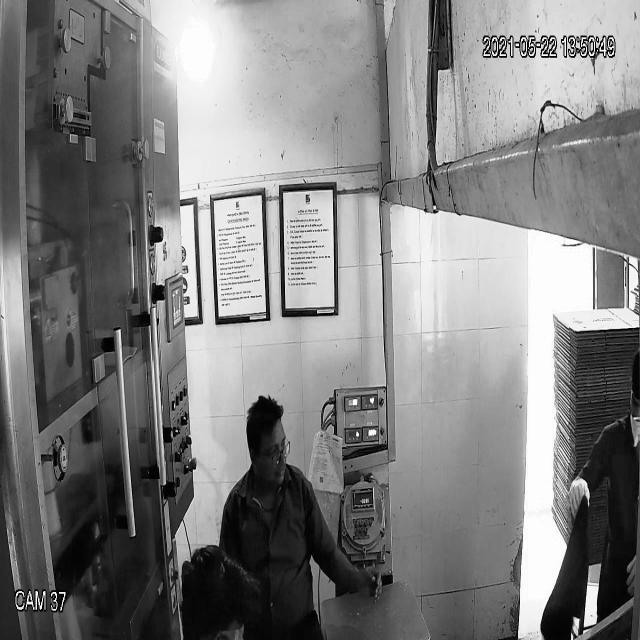glasses: (244, 436, 294, 468)
